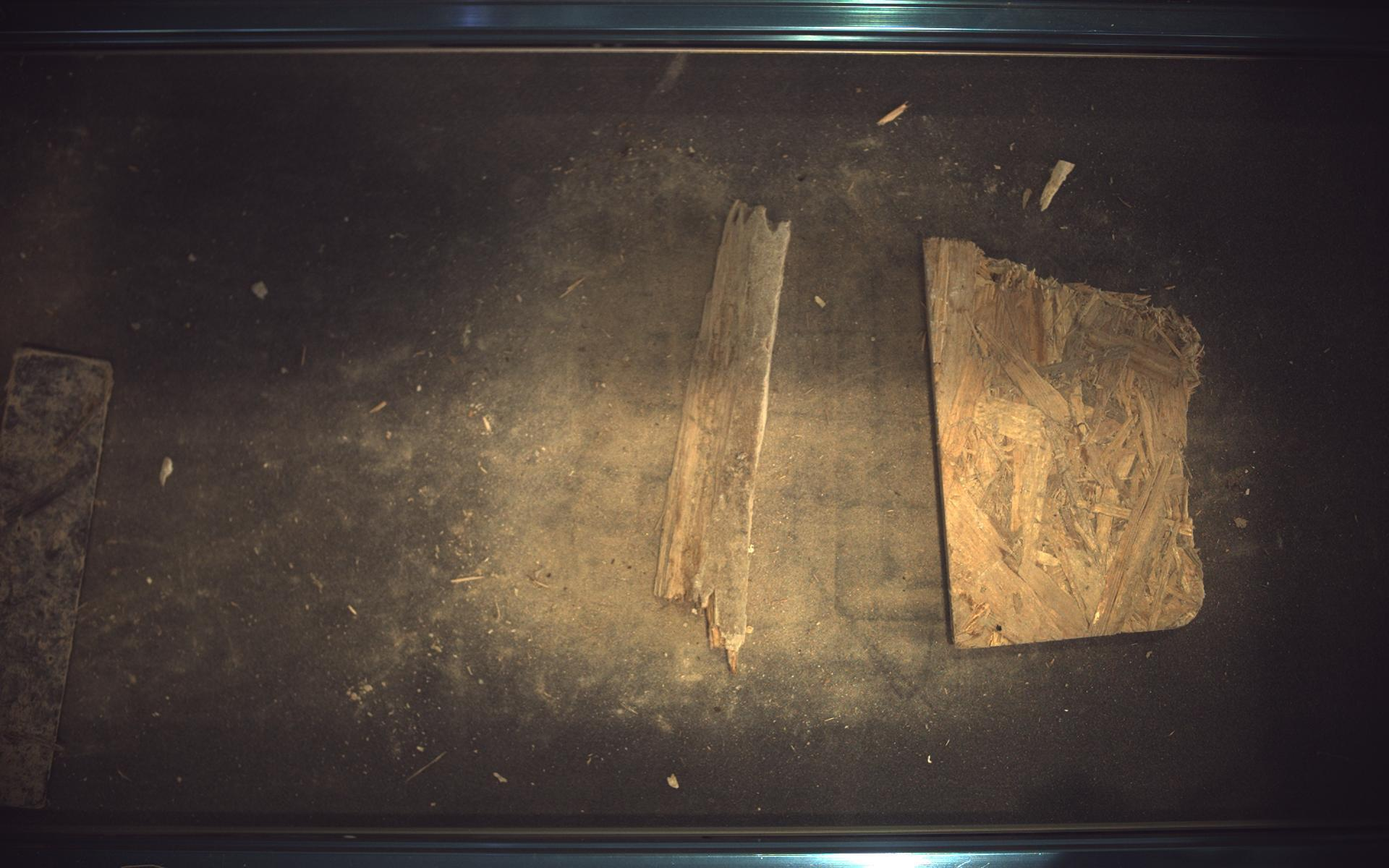wood: (926, 237, 1207, 648), (655, 200, 791, 674), (1, 349, 111, 809)
